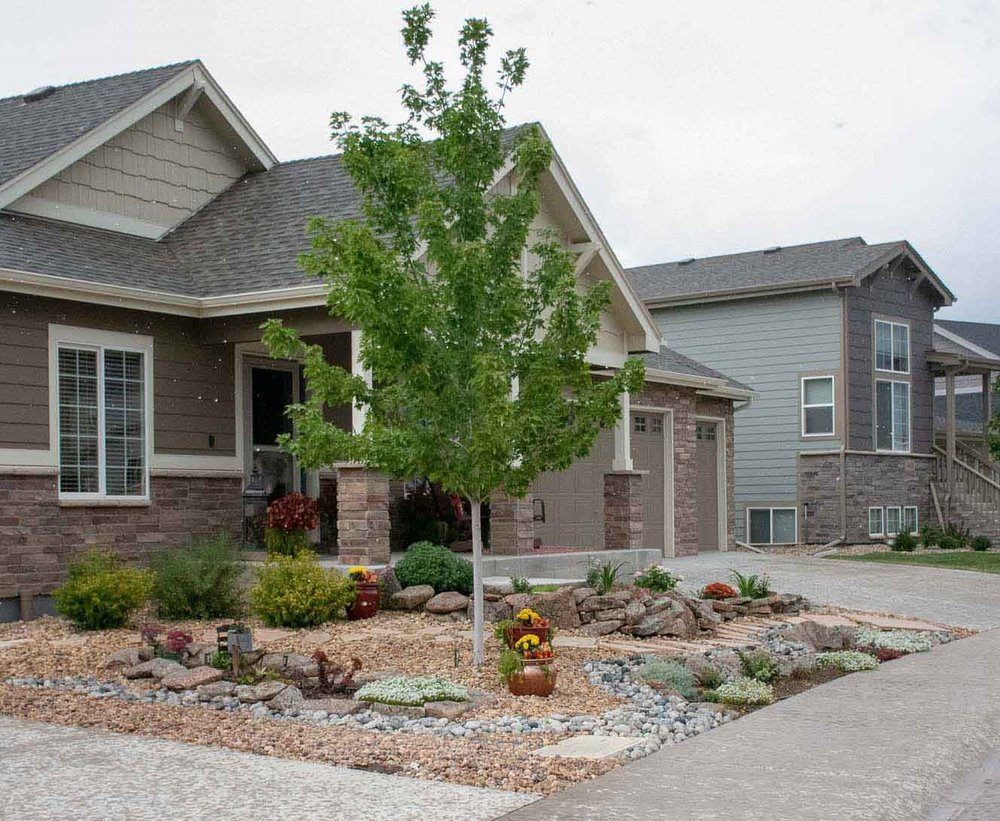tree: (276, 2, 661, 677)
